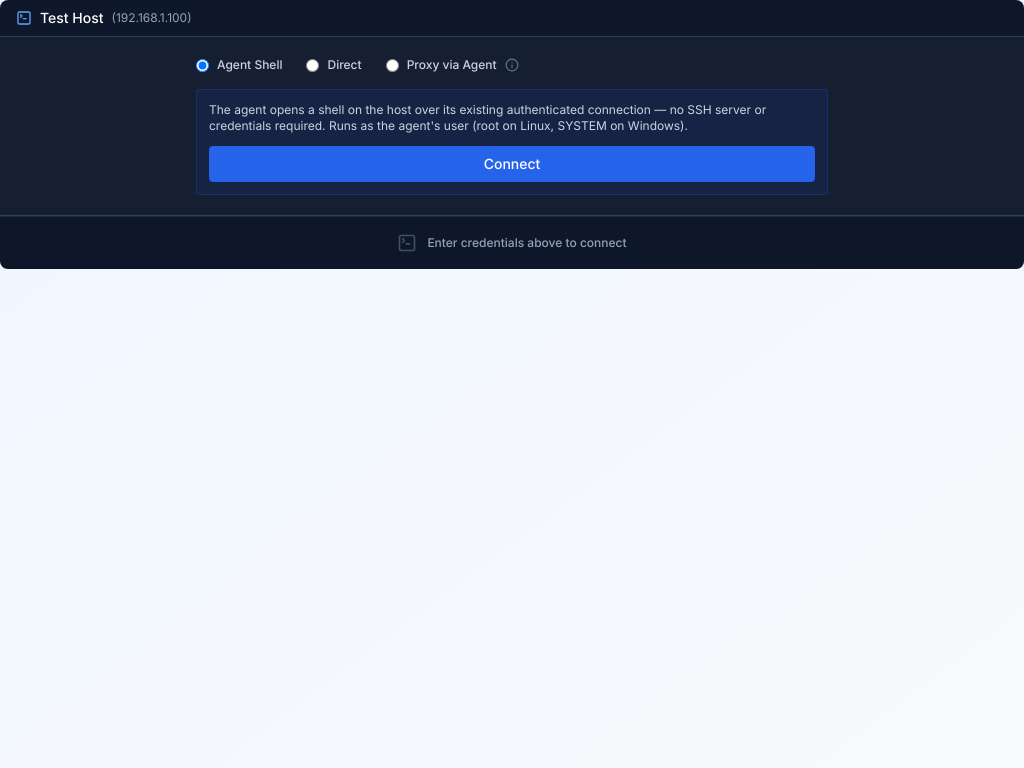
Test: SshTerminal Component › Authentication Methods › should switch to key authentication when selected
Click the radio button labelled "Direct" at point(313, 65), box [306,58,320,72]
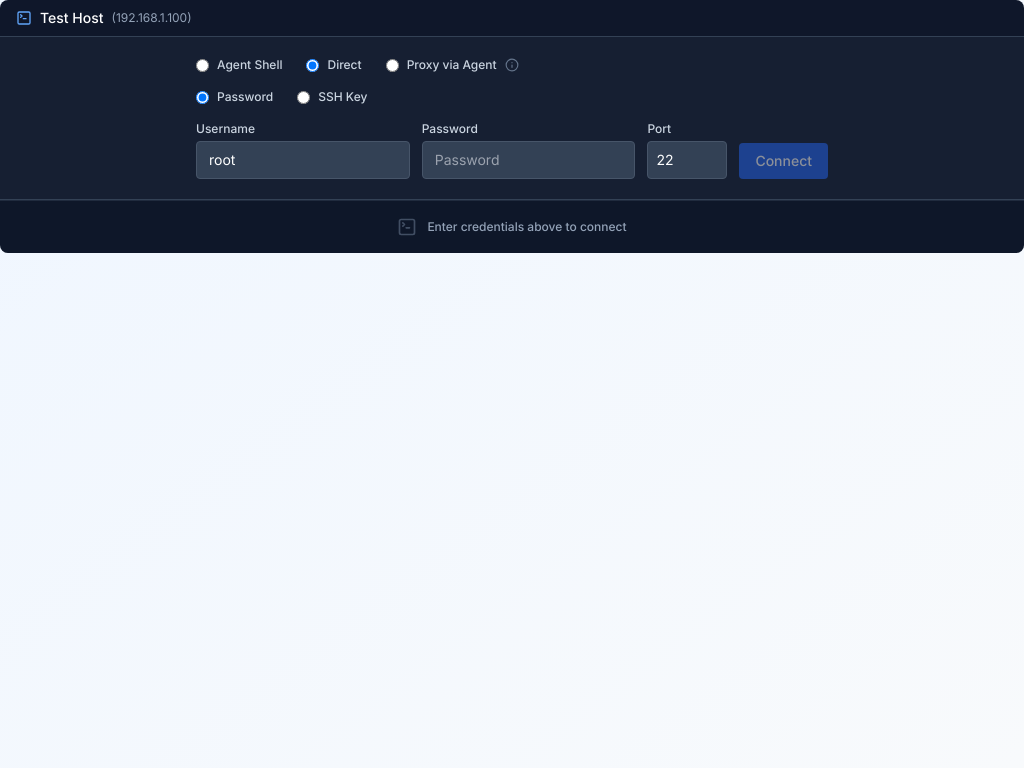
Click the radio button labelled "SSH Key" at point(304, 97), box [297,90,310,104]
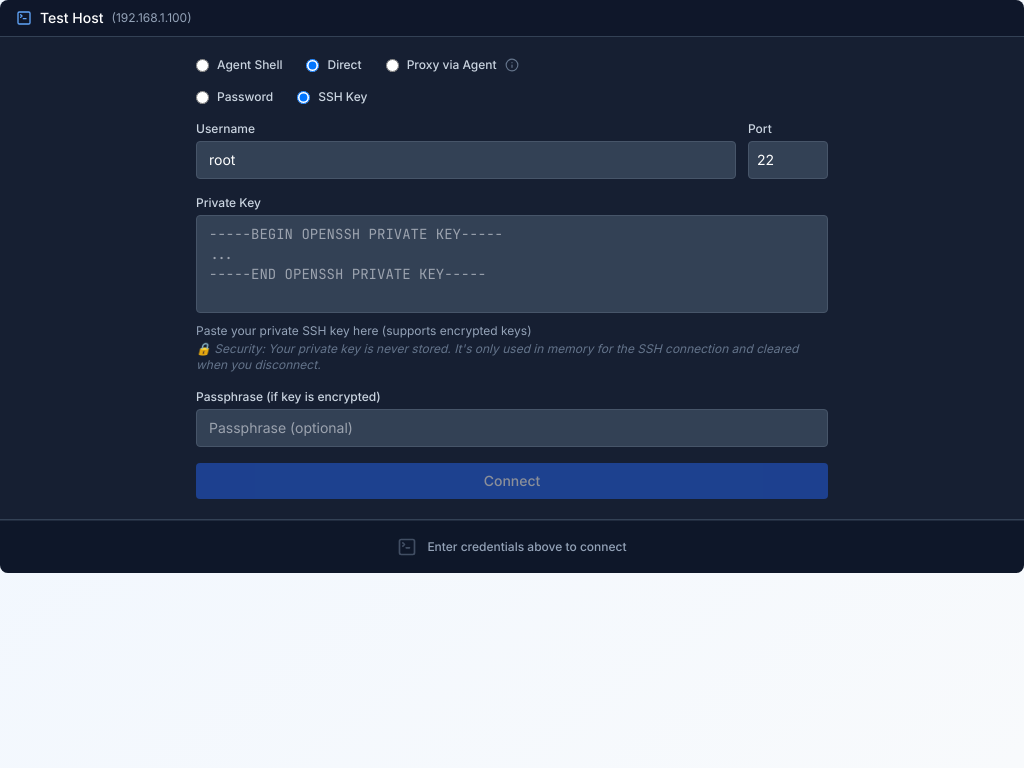
Expected: the text box with placeholder "BEGIN OPENSSH PRIVATE KEY" is shown, [196,215,828,313]
